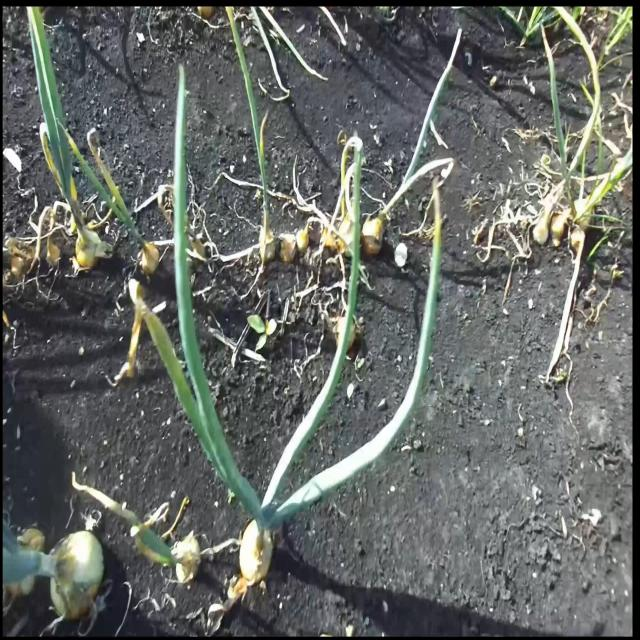onion: (49, 530, 104, 621), (238, 518, 274, 587), (74, 231, 103, 274), (364, 210, 384, 258), (138, 242, 160, 275), (258, 229, 276, 263), (295, 226, 311, 258)
